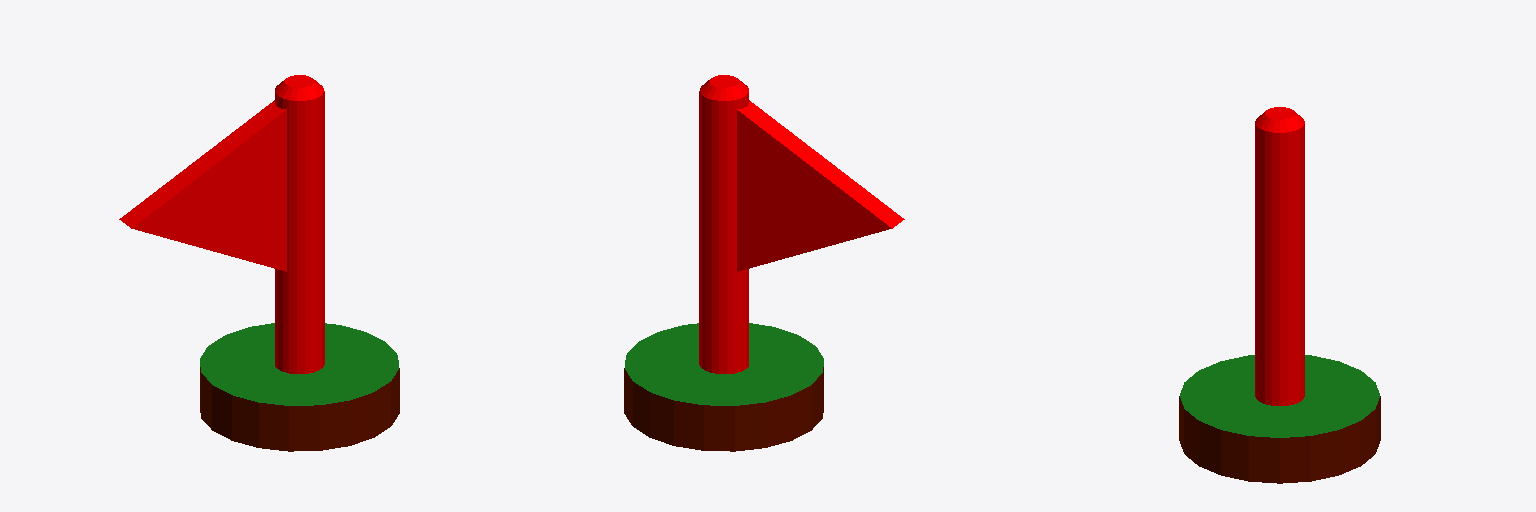
File: EndMarker.obj
The picture shows the model from 3 angles: view 1: azimuth 30°, elevation 25°; view 2: azimuth 150°, elevation 25°; view 3: azimuth 270°, elevation 25°; orthographic projection.
Visible parts, largest first — view 1: EndMarker; view 2: EndMarker; view 3: EndMarker.
Boxes of the visible parts, box(x1,y1,x2,y2) form: EndMarker: box(119, 75, 399, 451); EndMarker: box(624, 75, 904, 451); EndMarker: box(1179, 107, 1380, 483).
Bounding box in the file's own units: 1.2 × 1.44 × 0.8.